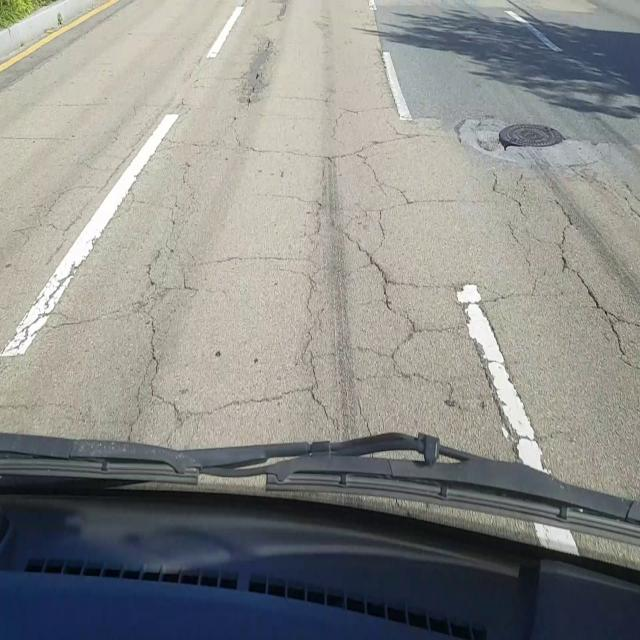Pothole: (478, 121, 566, 154)
